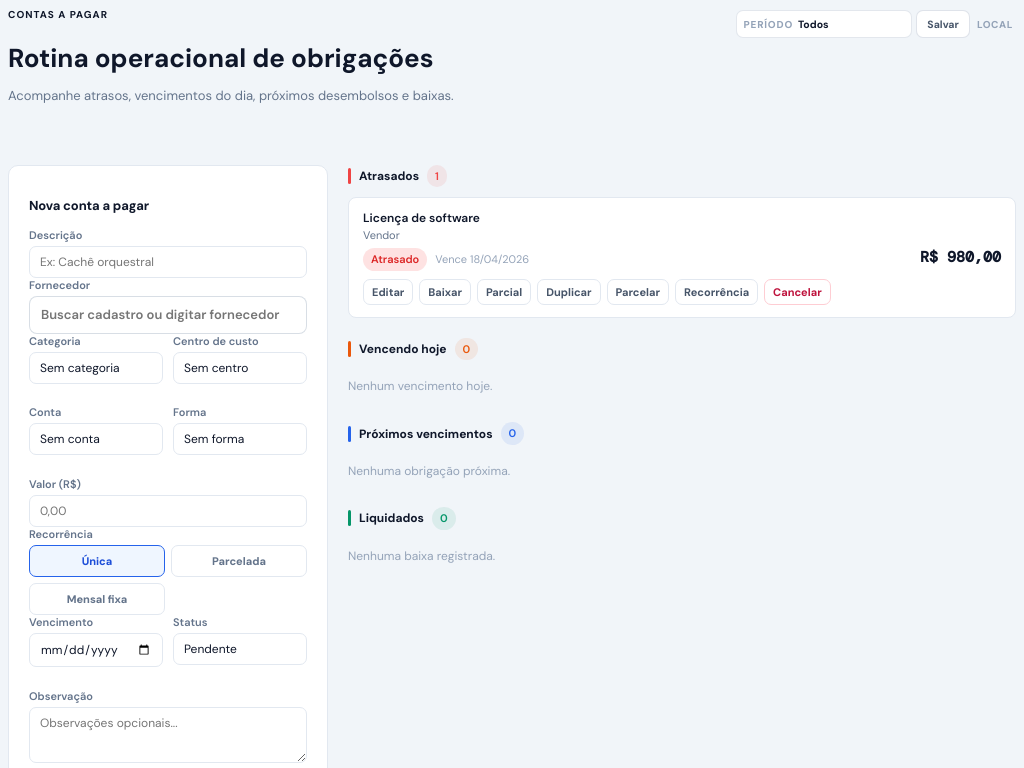
Test: payables page clears the form back to the initial state
Expected: the heading "Rotina operacional de obrigações" is shown, [8,43,454,74]
Type "Obrigação temporária" into the field labelled "Descrição" at (168, 262), box [29,246,307,278]
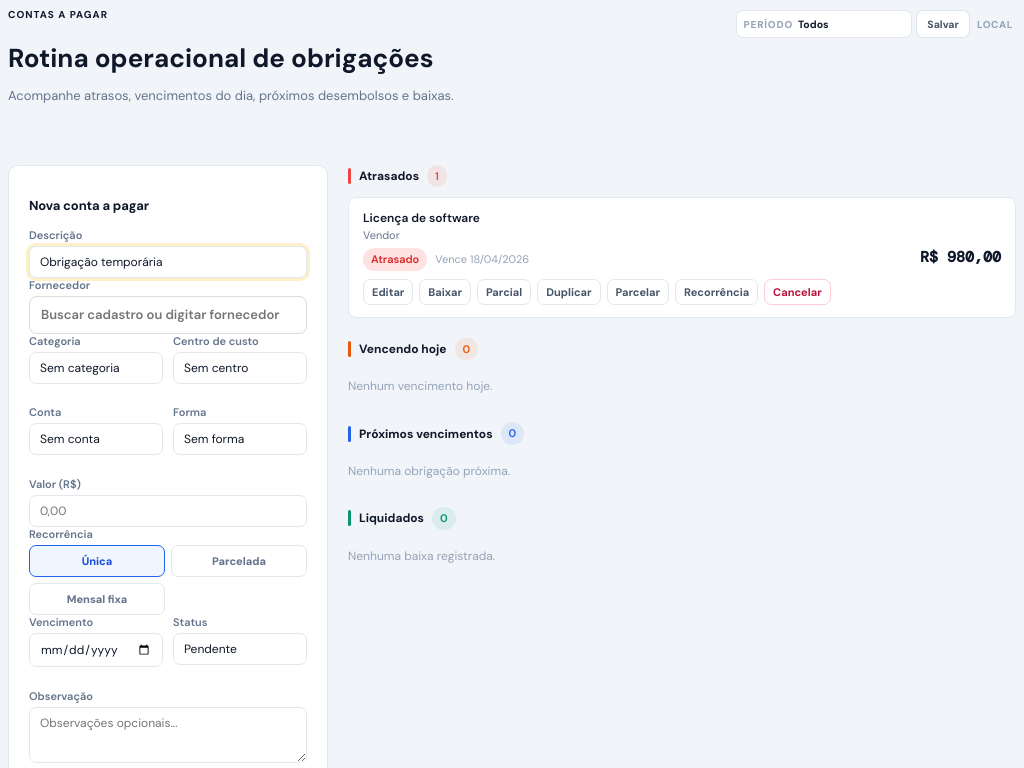
Type "Fornecedor XPTO" into the field labelled "Fornecedor" at (168, 314), box [29,296,307,334]
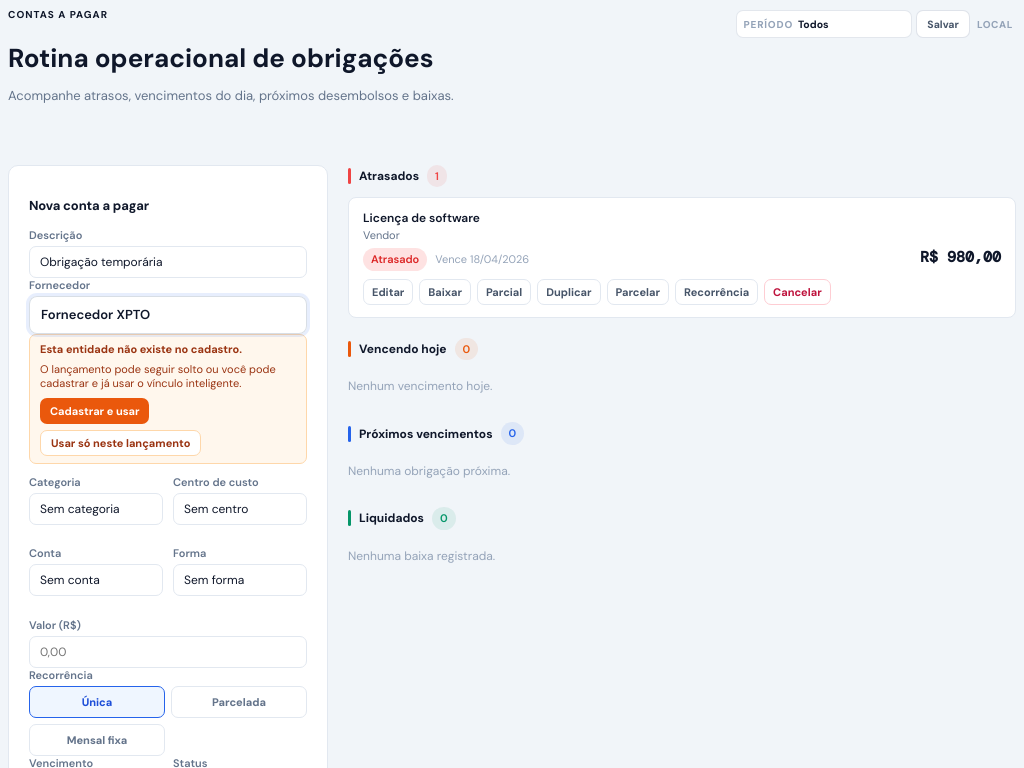
Type "32,00" into the field labelled "Valor (R$)" at (168, 652), box [29,636,307,668]
(page scrolled)
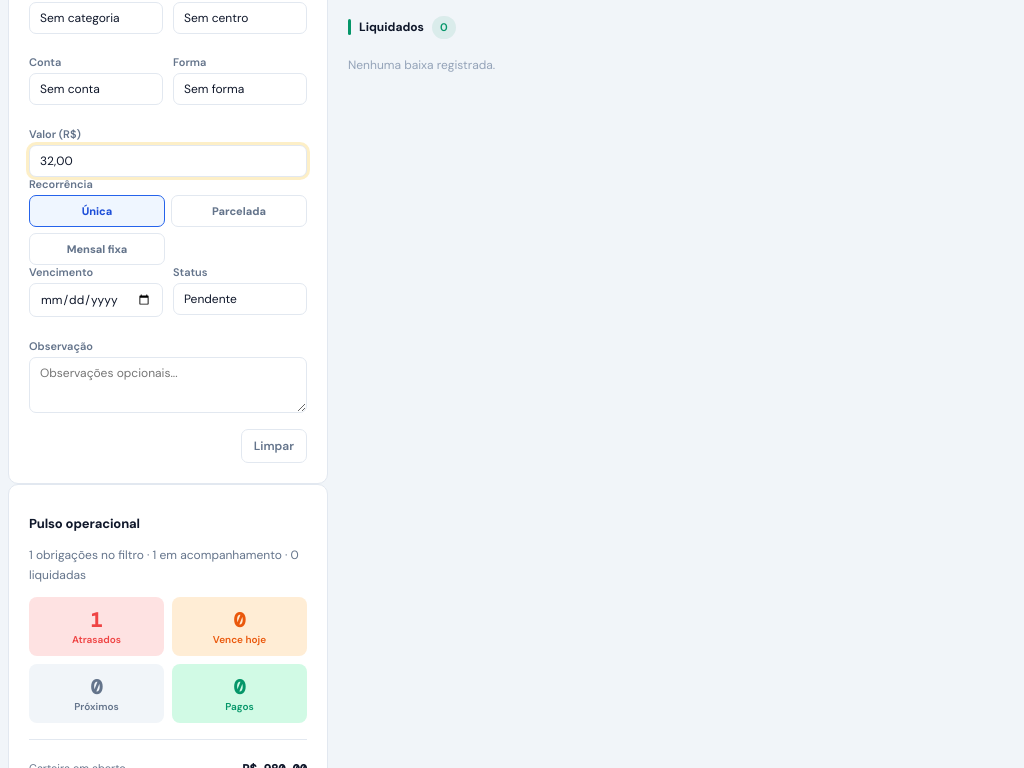
Type "Anotação temporária" into the text box labelled "Observação" at (168, 384), box [29,356,307,412]
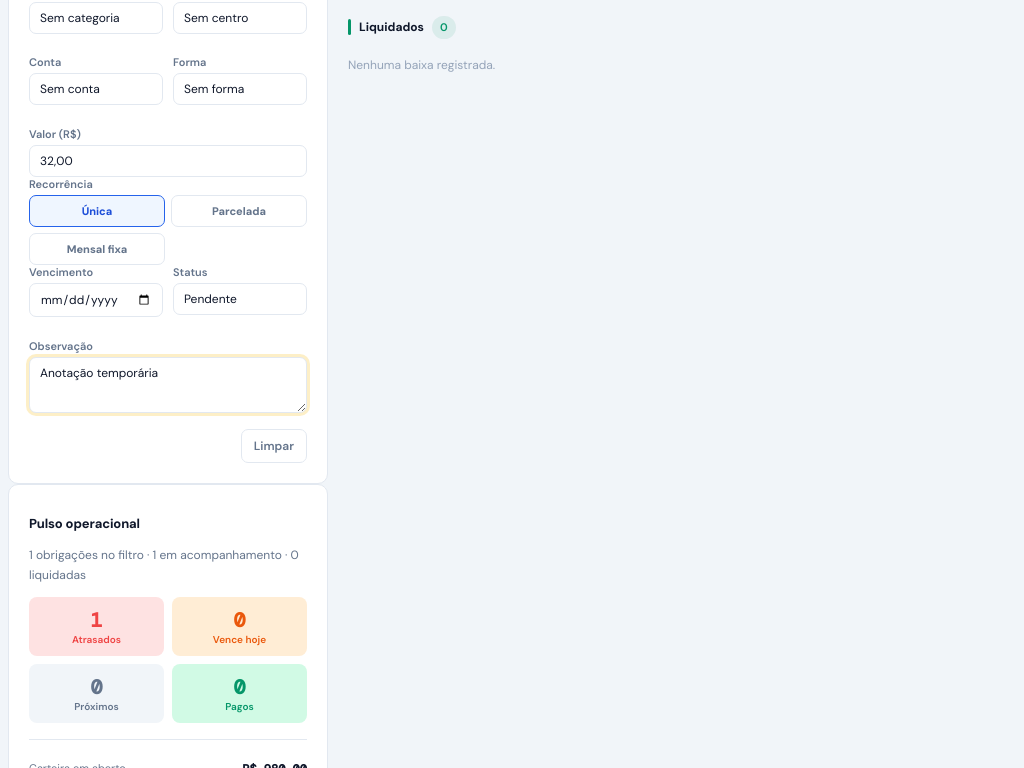
Click the button "Limpar" at (274, 446), box [241,428,307,462]
(page scrolled)
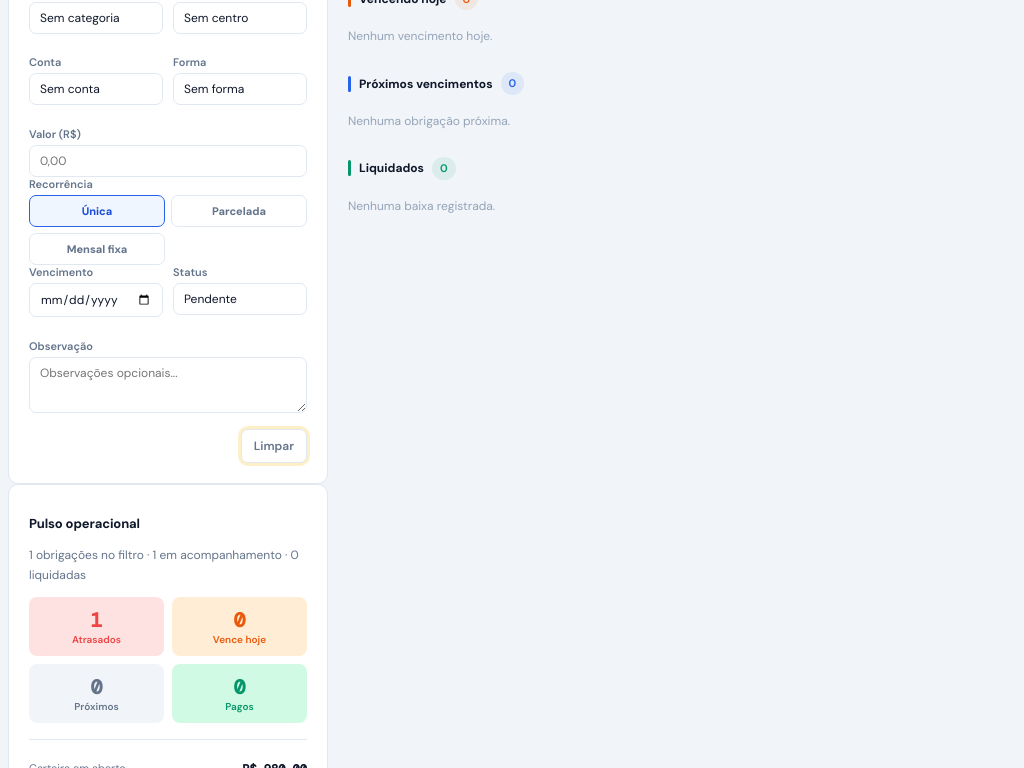
Expected: the dropdown labelled "Status" shows "Pendente", [173,282,307,314]
Expected: the field labelled "Valor (R$)" is empty, [29,144,307,176]
Expected: the text box labelled "Observação" is empty, [29,356,307,412]
